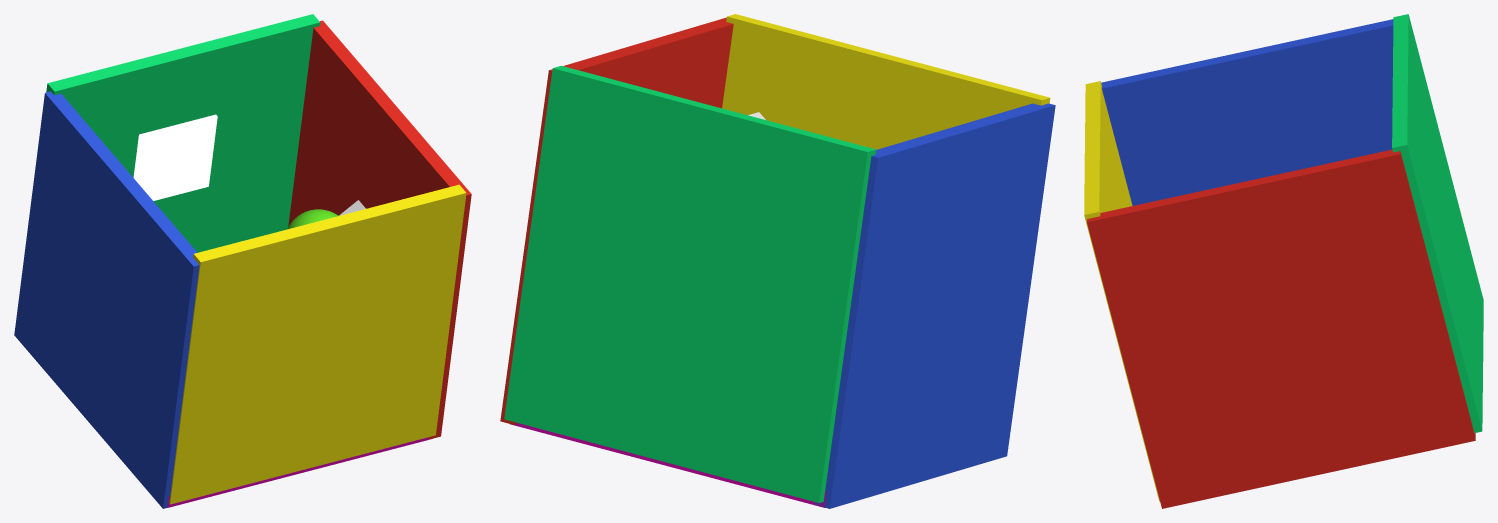
File: girl.gltf
3 views of the same model, side by side, from view 1: azimuth 30°, elevation 25°; view 2: azimuth 150°, elevation 25°; view 3: azimuth 270°, elevation 25° (orthographic). The views are drawn at different scales.
Parts seen in each view (by area): view 1: scene.006, scene.004, scene.005, scene.001, scene.002, scene.003, scene; view 2: scene.005, scene.004, scene.006, scene.001, scene.003; view 3: scene.001, scene.004, scene.005, scene.006.
Part boxes in pixels (left/top/right/bottom): scene.006: left=169, top=184, right=466, bottom=504; scene.004: left=14, top=91, right=199, bottom=508; scene.005: left=46, top=14, right=320, bottom=252; scene.001: left=288, top=20, right=471, bottom=439; scene.002: left=133, top=114, right=217, bottom=200; scene.003: left=167, top=437, right=432, bottom=507; scene: left=287, top=209, right=338, bottom=229; scene.005: left=504, top=65, right=876, bottom=502; scene.004: left=815, top=103, right=1055, bottom=508; scene.006: left=722, top=14, right=1050, bottom=149; scene.001: left=500, top=17, right=733, bottom=425; scene.003: left=510, top=422, right=826, bottom=507; scene.001: left=1087, top=149, right=1475, bottom=508; scene.004: left=1101, top=19, right=1393, bottom=205; scene.005: left=1392, top=14, right=1483, bottom=433; scene.006: left=1084, top=81, right=1159, bottom=501.
Bounding box in the file's own units: 6.05 × 7.08 × 7.04.
